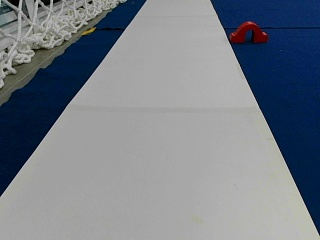bridge: (230, 22, 268, 42)
